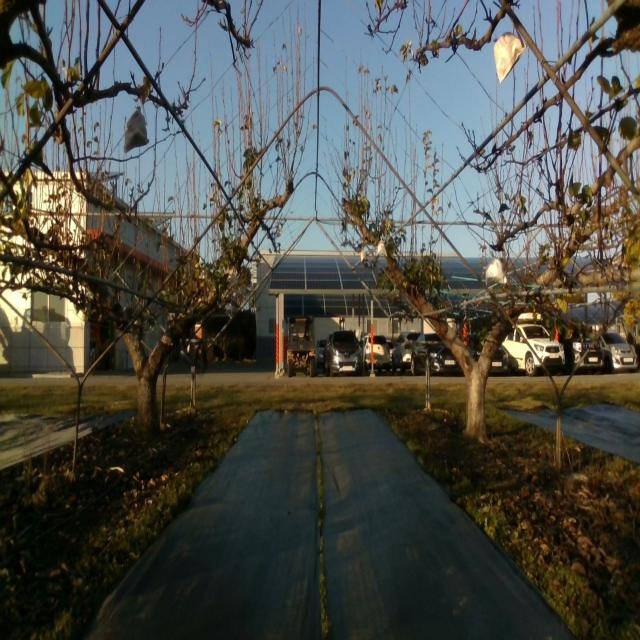pearbags: (492, 32, 526, 84), (124, 103, 149, 152), (485, 252, 506, 287)
